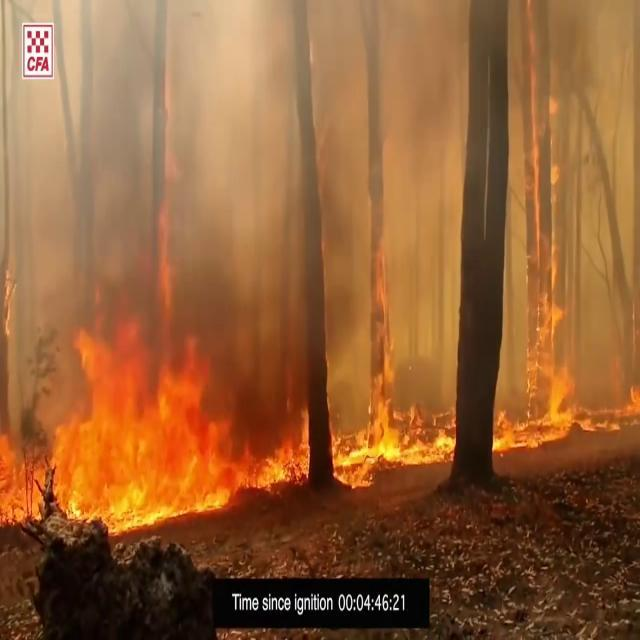Fire: (0, 274, 244, 540), (330, 323, 460, 503), (490, 294, 640, 439), (232, 409, 314, 497)
Smoke: (23, 0, 637, 364)
